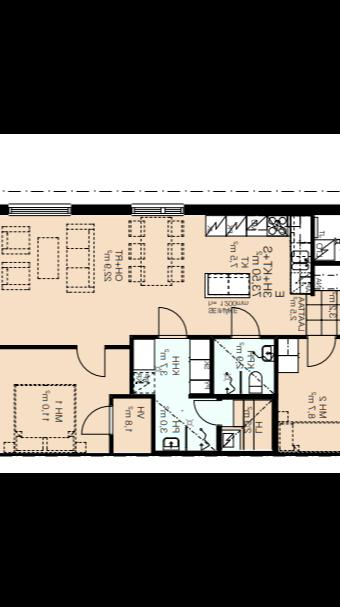bathroom: (213, 340, 273, 394)
door: (72, 339, 109, 381), (79, 402, 116, 439), (227, 305, 263, 343), (155, 302, 189, 342), (303, 333, 338, 368), (189, 398, 224, 427)
perimeter: (0, 202, 340, 457)
window: (128, 198, 190, 222), (4, 200, 74, 220)
